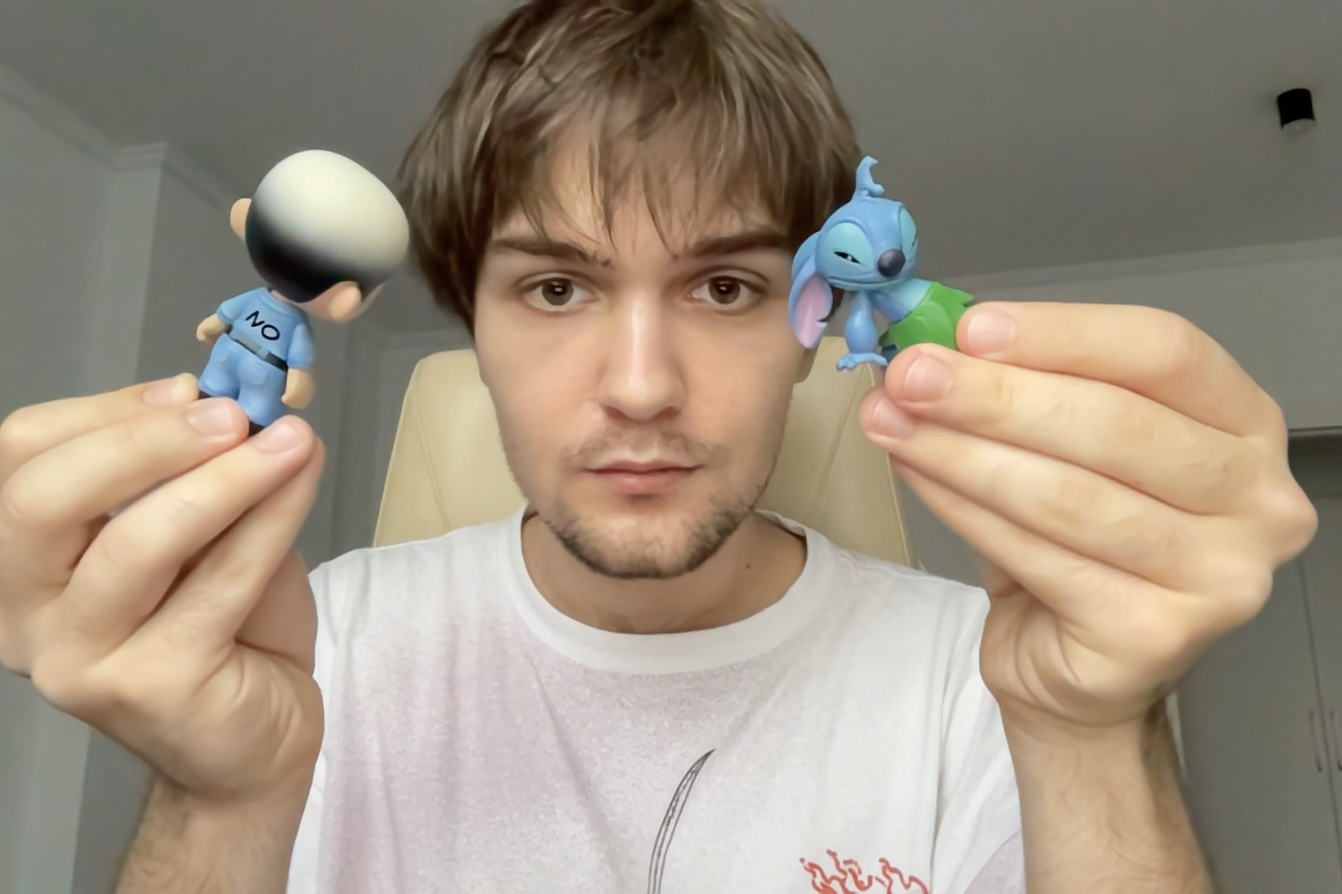stitch: (766, 150, 988, 374)
worker: (176, 142, 420, 435)
